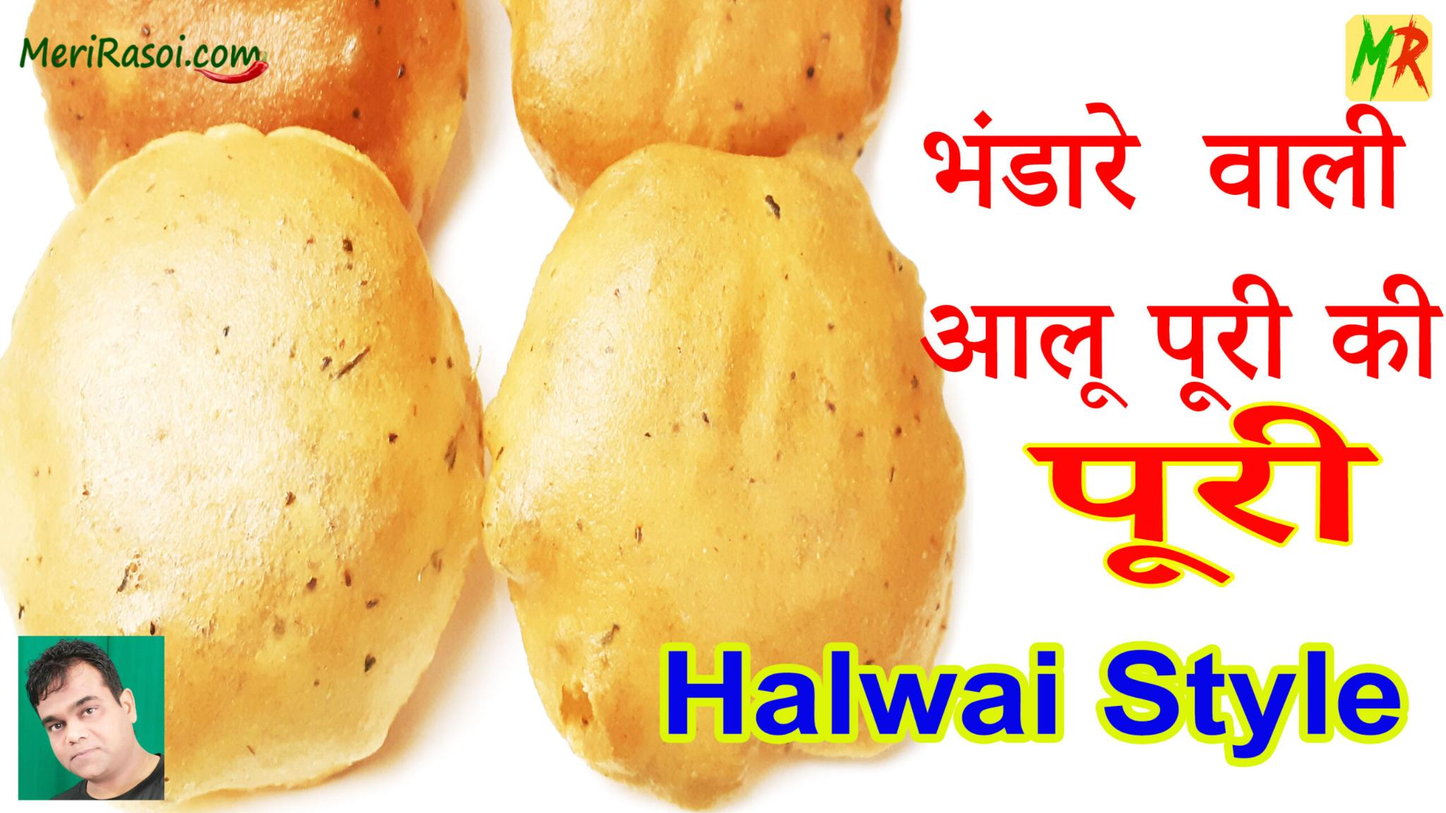puri: (34, 145, 919, 646)
